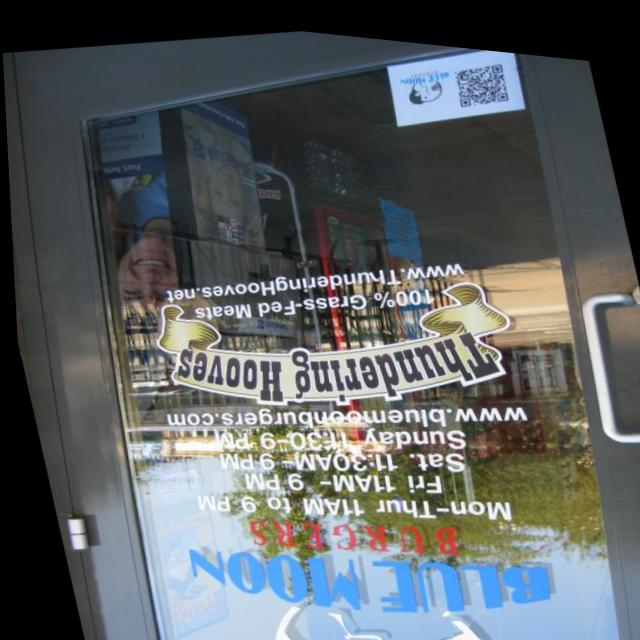qrcode: (452, 50, 509, 100)
